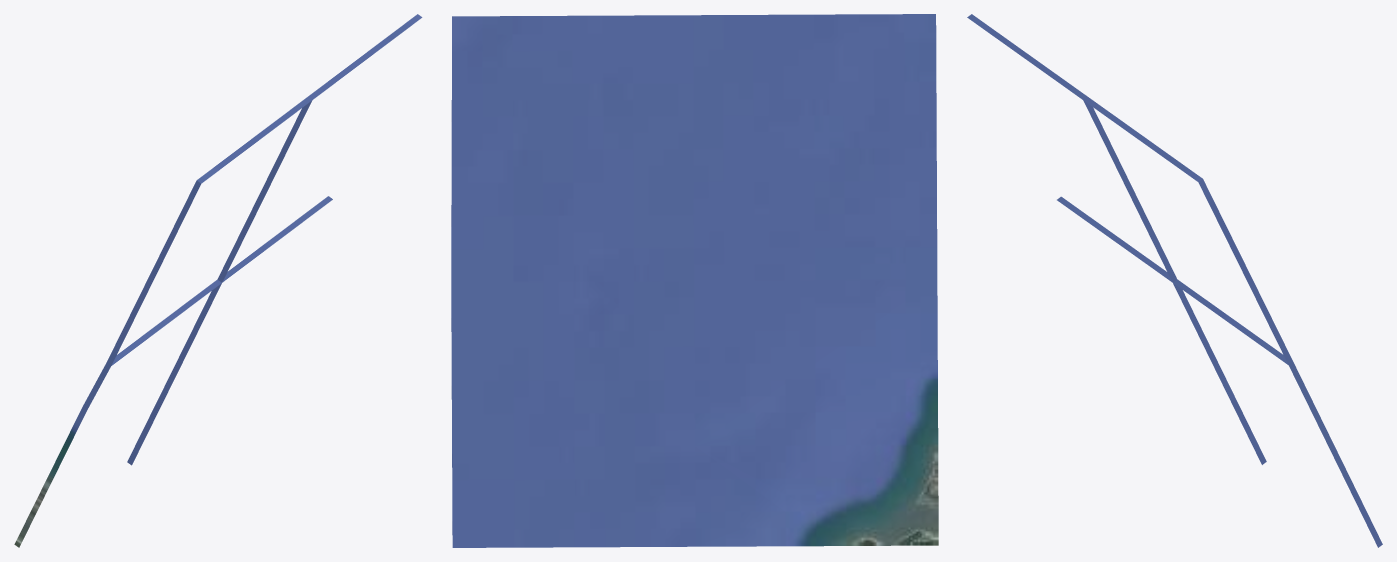
3 views of the same model, side by side, from view 1: azimuth 30°, elevation 25°; view 2: azimuth 150°, elevation 25°; view 3: azimuth 270°, elevation 25° (orthographic). The views are drawn at different scales.
Size of the model in its own units: 19678 by 17910 by 16377.
1 material, 1 textured.
